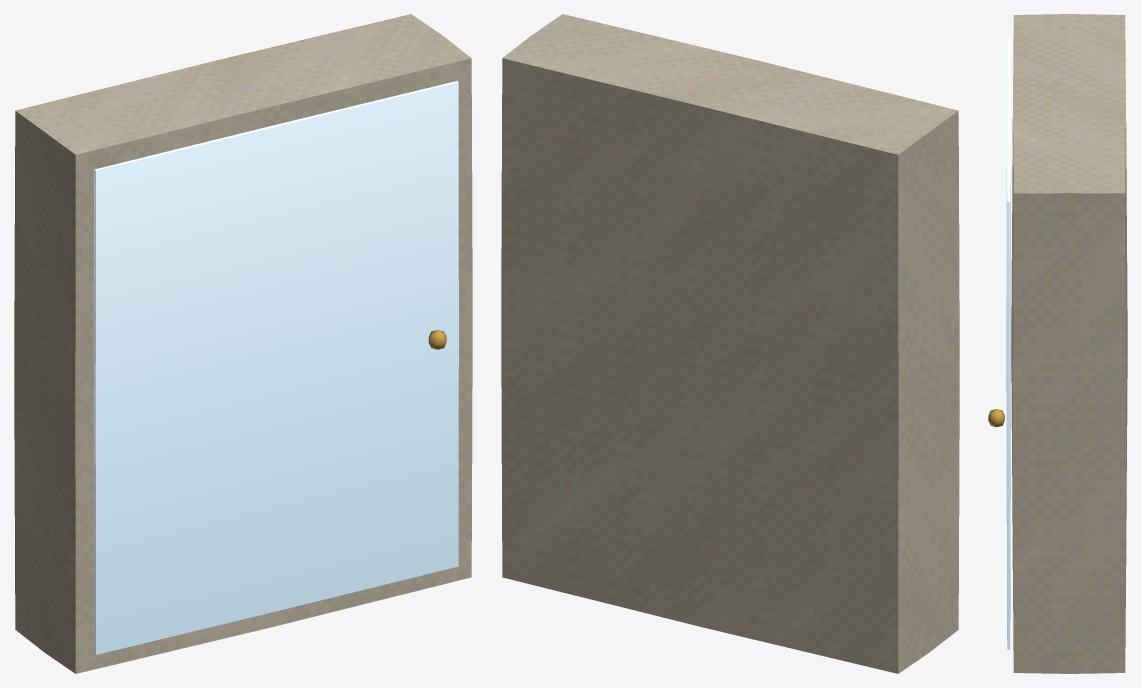
The model's file is medicine_cabinet.glb.
The picture shows the model from 3 angles, left to right: view 1: azimuth 30°, elevation 25°; view 2: azimuth 150°, elevation 25°; view 3: azimuth 270°, elevation 25°; orthographic projection. The views are drawn at different scales.
Visible parts, largest first — view 1: mirror, box; view 2: box; view 3: box, mirror, knob.
Part boxes in pixels (bbox=[...]): mirror: bbox=[93, 81, 458, 654]; box: bbox=[14, 14, 472, 673]; box: bbox=[501, 14, 959, 673]; box: bbox=[1011, 14, 1127, 673]; mirror: bbox=[1006, 38, 1011, 649]; knob: bbox=[988, 409, 1004, 427].
Bounding box in the file's own units: 0.44 × 0.55 × 0.1437.
Materials: 3 (1 with a texture image).
